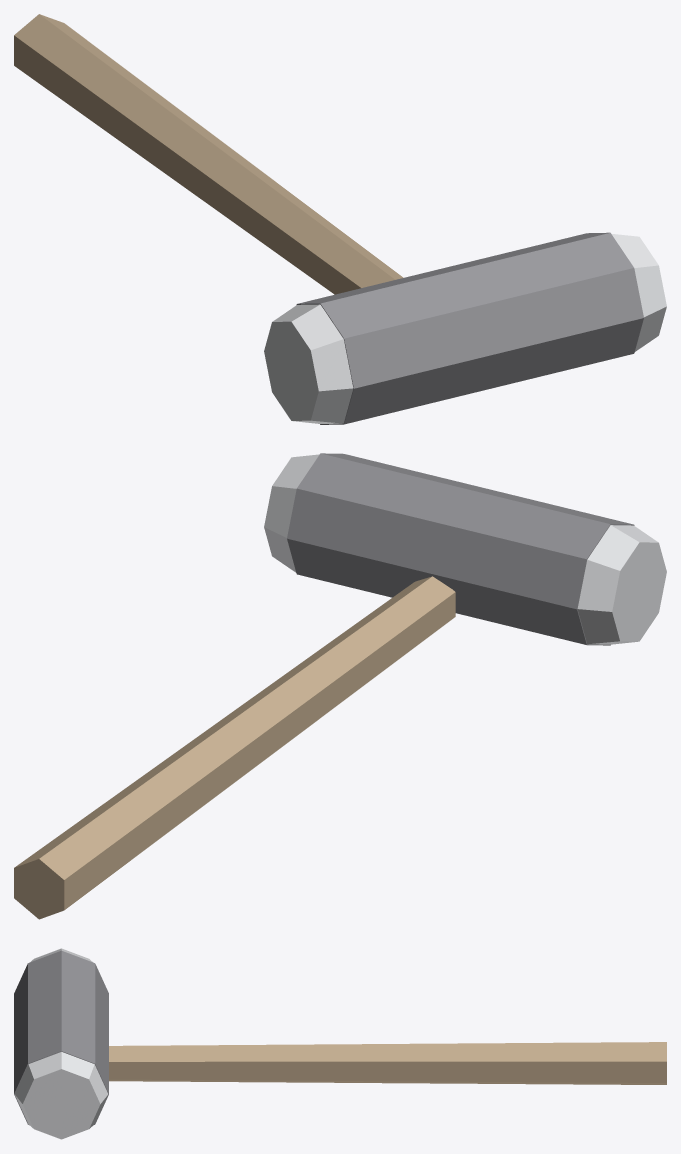
The model's file is prop-planishing-hammer-blank.fbx.
The picture shows the model from 3 angles, top to bottom: view 1: azimuth 30°, elevation 25°; view 2: azimuth 150°, elevation 25°; view 3: azimuth 270°, elevation 25°; orthographic projection. The views are drawn at different scales.
Parts seen in each view (by area): view 1: prop-planishing-hammer-blank; view 2: prop-planishing-hammer-blank; view 3: prop-planishing-hammer-blank.
Part boxes in pixels (box(x1,y1,x2,y2)): prop-planishing-hammer-blank: box(14, 14, 666, 424); prop-planishing-hammer-blank: box(14, 453, 666, 919); prop-planishing-hammer-blank: box(14, 948, 666, 1139).
Bounding box in the file's own units: 13.2 × 4.4 × 30.2.
